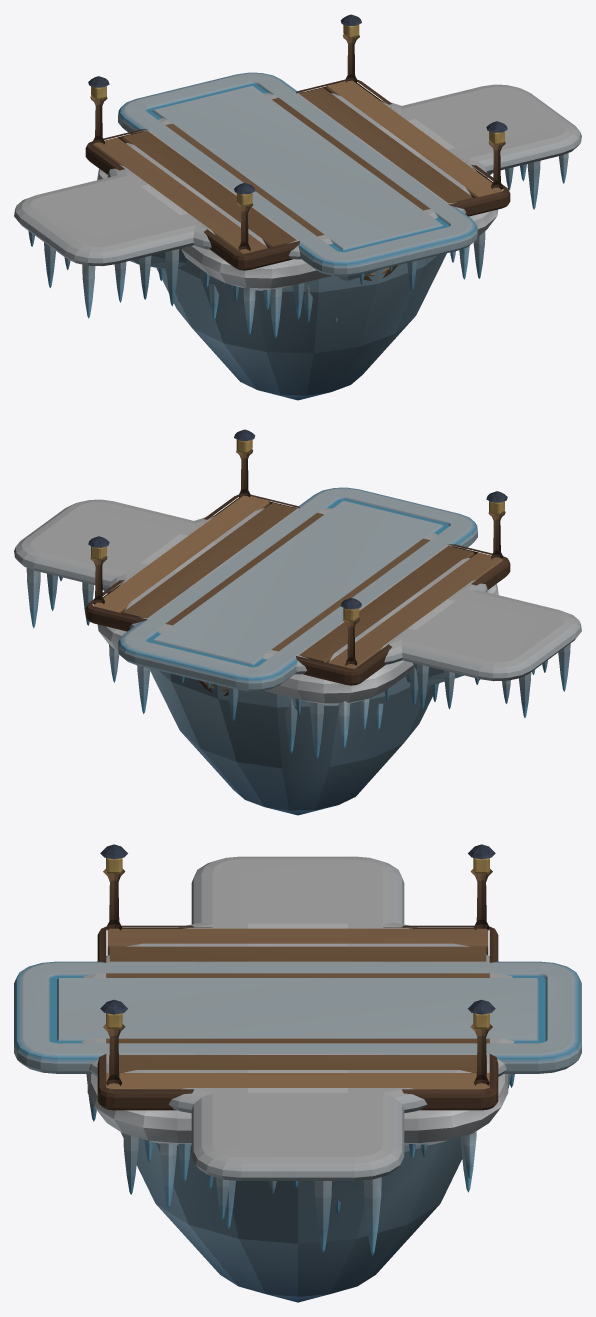
Rendered from glacier-2-DC4V44uk.glb.
3 views of the same model, one above another, from view 1: azimuth 30°, elevation 25°; view 2: azimuth 150°, elevation 25°; view 3: azimuth 270°, elevation 25° (orthographic). The views are drawn at different scales.
Parts seen in each view (by area): view 1: block_7x2x17_ice#1, pad_12x2x12#1, block_22x2x6#0, disc_14x1.5#1, beam_12x1.5x3#0; view 2: block_7x2x17_ice#1, pad_12x2x12#1, disc_14x1.5#1, block_22x2x6#0, beam_12x1.5x3#0; view 3: block_7x2x17_ice#1, pad_12x2x12#1, block_22x2x6#0, disc_14x1.5#1, beam_12x1.5x3#0.
Part boxes in pixels (x1=…): block_7x2x17_ice#1: x1=118, y1=72, x2=477, y2=281; pad_12x2x12#1: x1=85, y1=14, x2=510, y2=338; block_22x2x6#0: x1=14, y1=84, x2=581, y2=318; disc_14x1.5#1: x1=107, y1=91, x2=487, y2=400; beam_12x1.5x3#0: x1=140, y1=119, x2=454, y2=214; block_7x2x17_ice#1: x1=118, y1=487, x2=477, y2=691; pad_12x2x12#1: x1=85, y1=429, x2=510, y2=758; disc_14x1.5#1: x1=108, y1=506, x2=488, y2=815; block_22x2x6#0: x1=14, y1=499, x2=581, y2=717; beam_12x1.5x3#0: x1=141, y1=534, x2=455, y2=629; block_7x2x17_ice#1: x1=14, y1=961, x2=581, y2=1073; pad_12x2x12#1: x1=87, y1=844, x2=508, y2=1214; block_22x2x6#0: x1=191, y1=856, x2=404, y2=1255; disc_14x1.5#1: x1=81, y1=922, x2=514, y2=1302; beam_12x1.5x3#0: x1=248, y1=923, x2=347, y2=1092.
Bounding box in the file's own units: 22.36 × 12.57 × 17.
